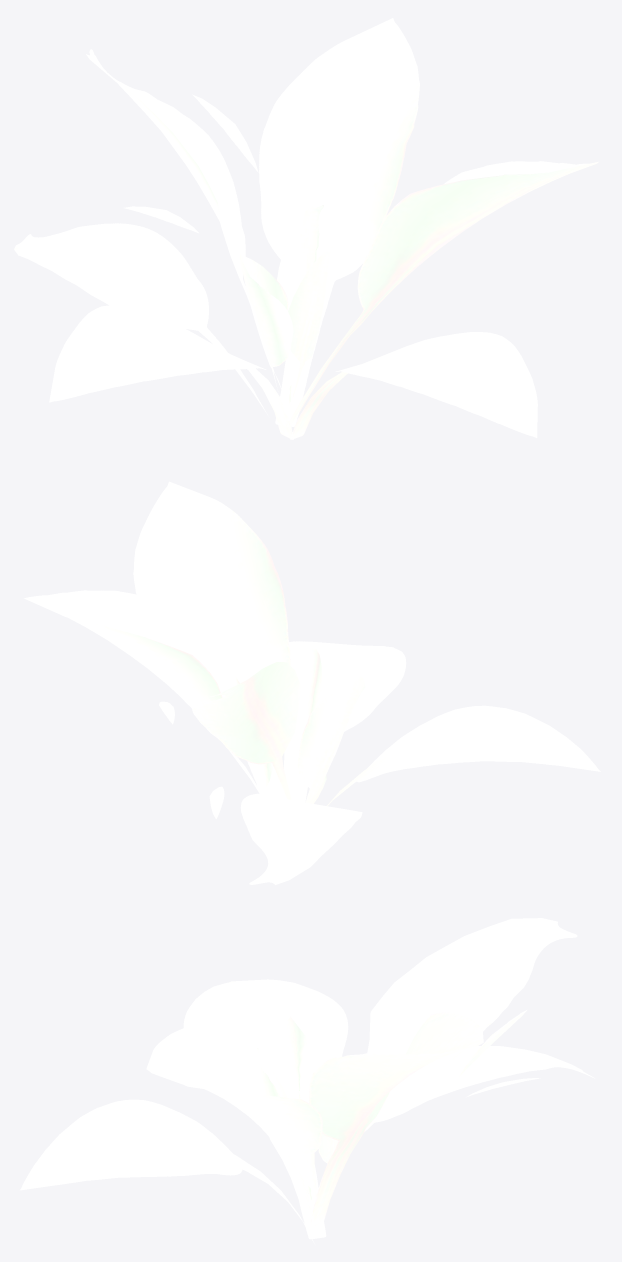
The picture shows the model from 3 angles, top to bottom: view 1: azimuth 30°, elevation 25°; view 2: azimuth 150°, elevation 25°; view 3: azimuth 270°, elevation 25°; orthographic projection. The views are drawn at different scales.
Visible parts, largest first — view 1: SM_BM_Sm_Plant_01_LOD0; view 2: SM_BM_Sm_Plant_01_LOD0; view 3: SM_BM_Sm_Plant_01_LOD0.
Boxes of the visible parts, <box> form: SM_BM_Sm_Plant_01_LOD0: <box>14,18,598,439</box>; SM_BM_Sm_Plant_01_LOD0: <box>24,481,600,884</box>; SM_BM_Sm_Plant_01_LOD0: <box>20,918,594,1243</box>.
Bounding box in the file's own units: 1.33 × 0.7758 × 1.43.
1 material, 1 textured.
